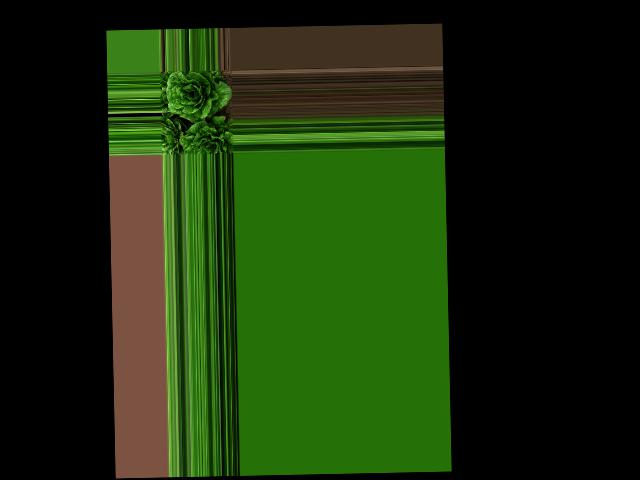lettuce: (179, 120, 232, 155)
